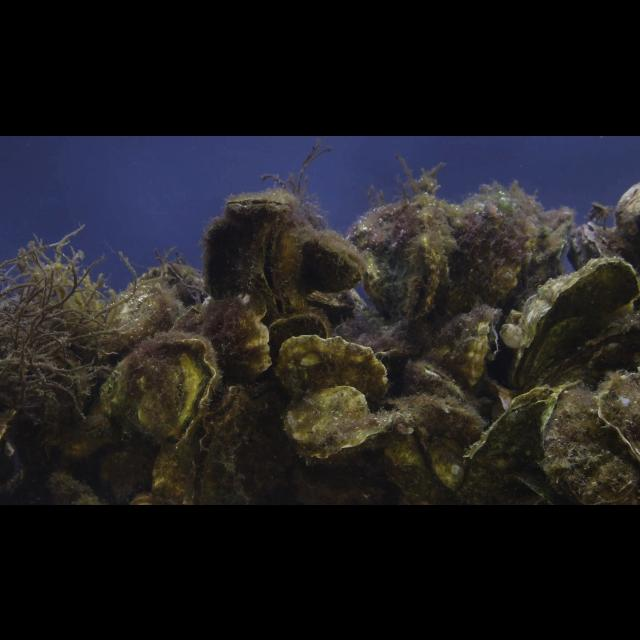Oyster-Closed: (508, 255, 640, 393), (351, 198, 452, 326), (448, 188, 540, 328), (538, 378, 640, 504), (453, 384, 555, 504), (104, 262, 208, 364), (280, 383, 406, 461), (168, 292, 272, 384), (272, 332, 390, 408), (566, 222, 640, 290), (298, 226, 366, 292), (594, 370, 640, 462), (406, 358, 462, 402)
Oyster-Open: (100, 330, 216, 450), (205, 194, 292, 322), (187, 382, 276, 504), (424, 304, 501, 392)
